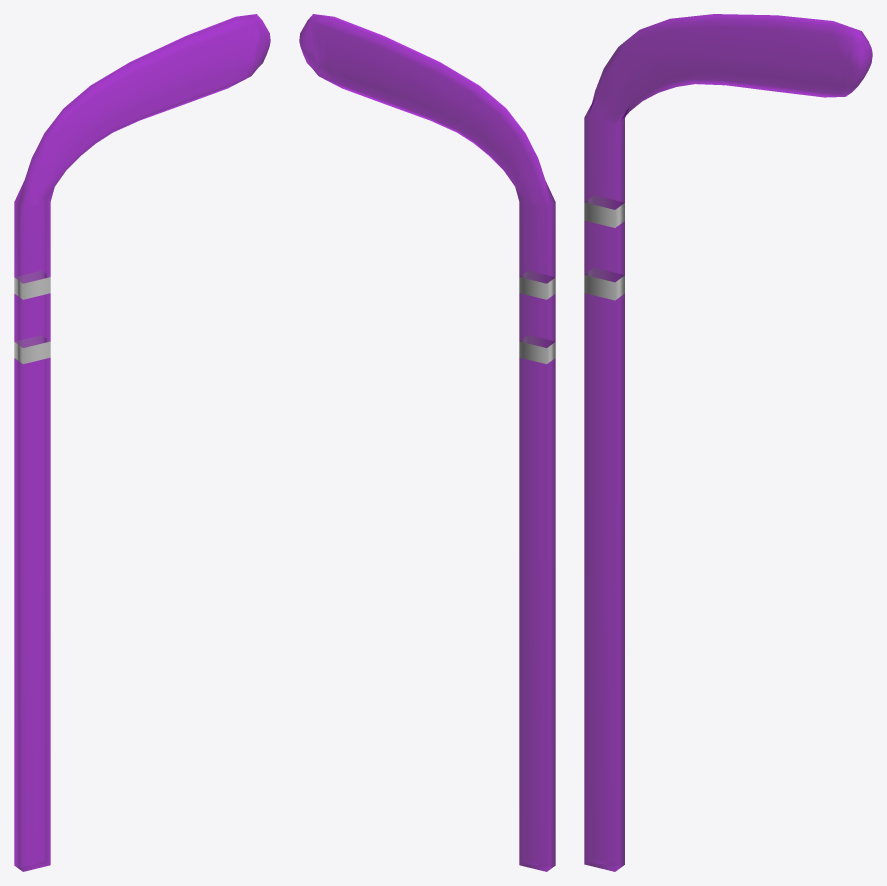
File: HockeyStick.fbx
The picture shows the model from 3 angles, left to right: view 1: azimuth 30°, elevation 25°; view 2: azimuth 150°, elevation 25°; view 3: azimuth 330°, elevation 25°; orthographic projection. The views are drawn at different scales.
Parts seen in each view (by area): view 1: polySurface11; view 2: polySurface11; view 3: polySurface11.
Part boxes in pixels (box(x1,y1,x2,y2)): polySurface11: box(14, 14, 270, 871); polySurface11: box(299, 14, 555, 871); polySurface11: box(584, 14, 872, 871).
Bounding box in the file's own units: 4.49 × 13.82 × 0.3791.
